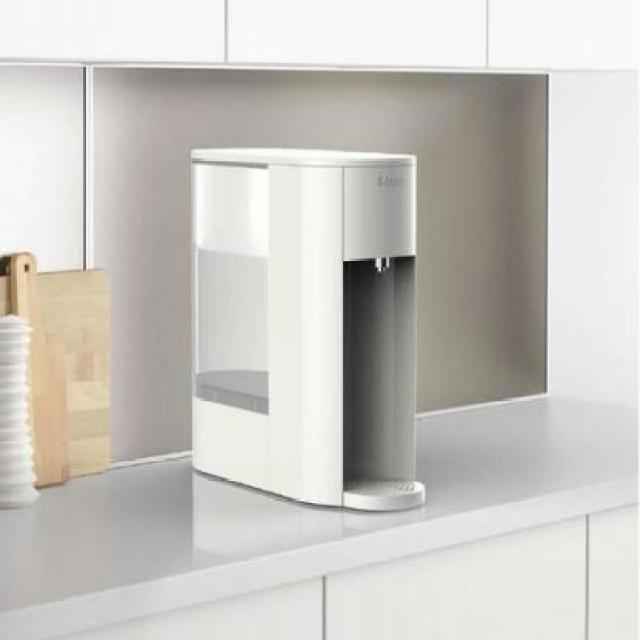cooler: (189, 144, 431, 514)
